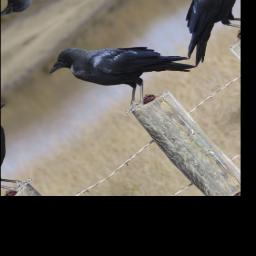Crow: (39, 0, 198, 135)
